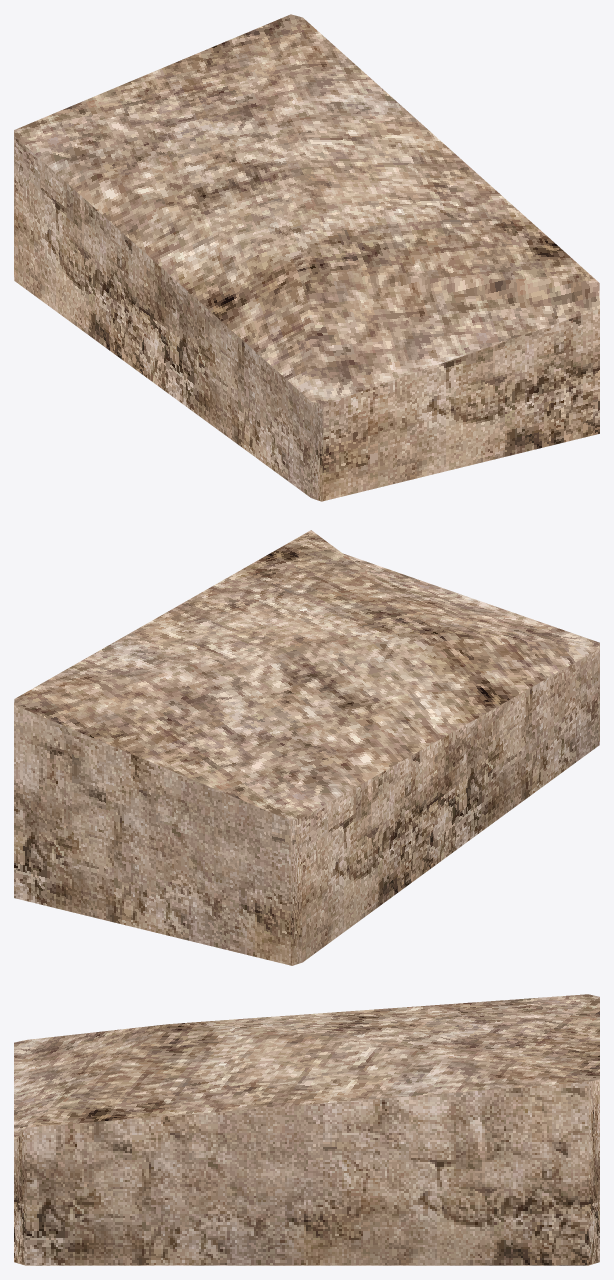
File: stage-dese-p7-16.glb
The picture shows the model from 3 angles, top to bottom: view 1: azimuth 30°, elevation 25°; view 2: azimuth 150°, elevation 25°; view 3: azimuth 270°, elevation 25°; orthographic projection. The views are drawn at different scales.
Bounding box in the file's own units: 1.74 × 1.15 × 3.23.
2 materials, 2 textured.
